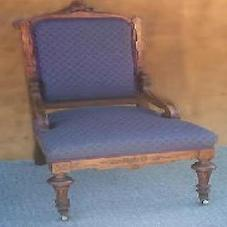chair: (9, 5, 222, 212)
